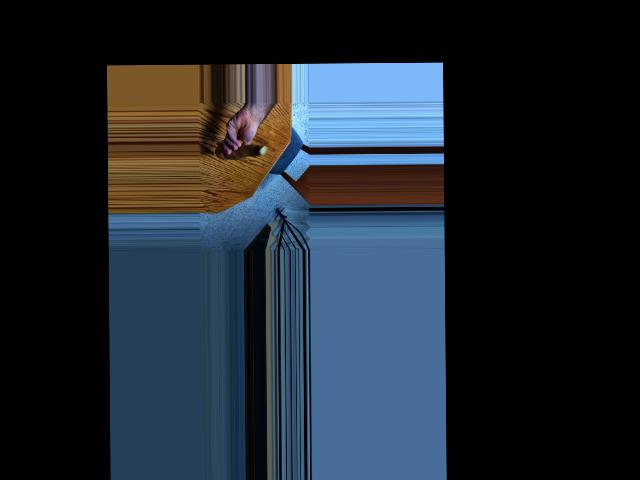sweet_potato: (217, 139, 268, 160)
